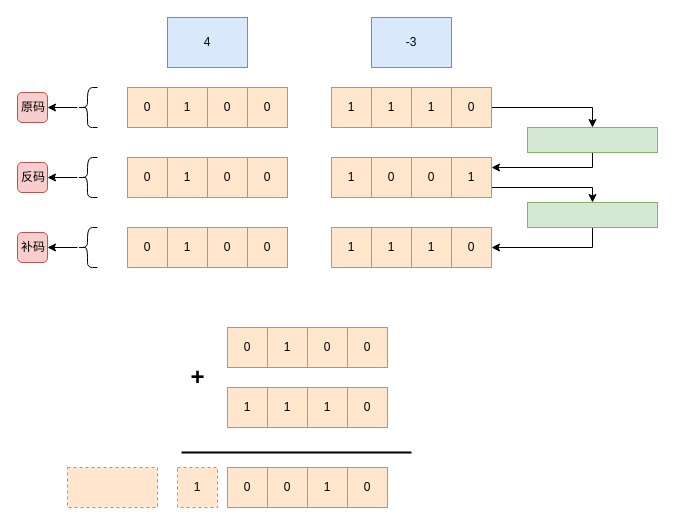
Image size: 675x525. Some labels were removed from this diagram. The shapes that lost their labels are listed below. From the top down, each one's centre as x and y in pixels, then its label:
At point (592, 139): "符号位不变，按位取反".
At point (592, 215): "原码 +1".
At point (112, 487): "溢出，丢掉".
